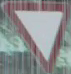Give way: (3, 3, 62, 69)
